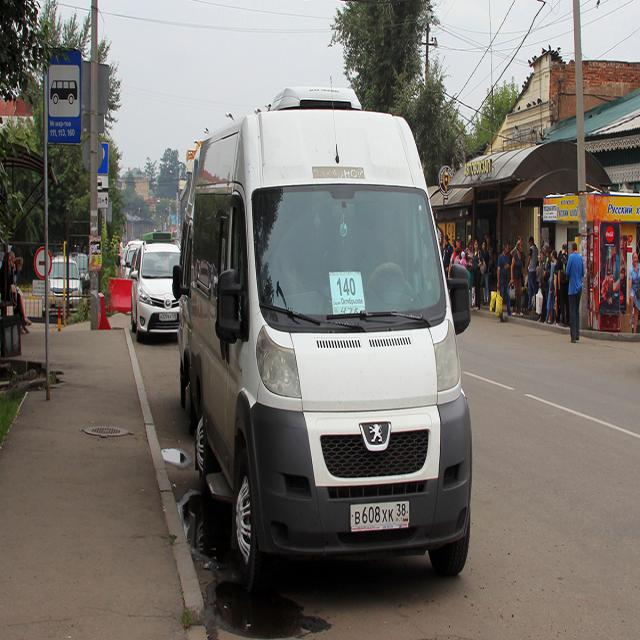number-of-bus: (334, 273, 364, 308)
